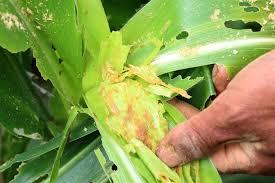fallarmy_worm: (125, 104, 151, 144)
